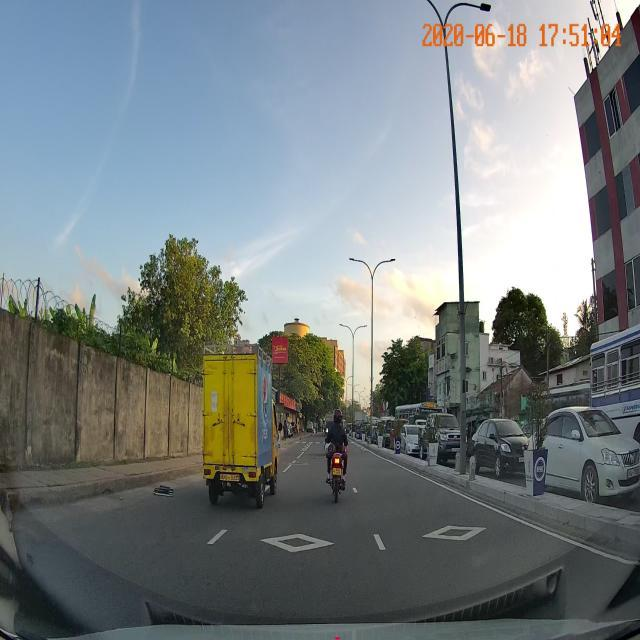diamond: (198, 516, 400, 568)
